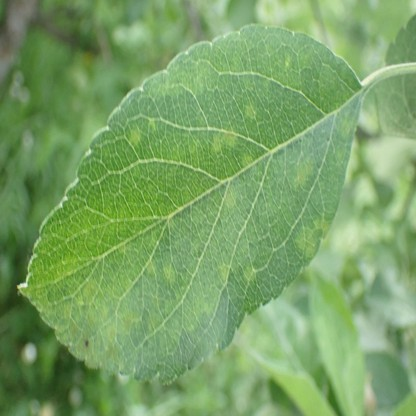scab: (161, 279, 216, 337), (294, 156, 313, 188), (294, 228, 314, 256), (212, 127, 236, 150), (105, 328, 119, 363), (336, 115, 354, 138), (77, 333, 93, 356), (121, 312, 136, 334), (312, 219, 330, 236), (225, 184, 236, 209), (163, 264, 175, 285), (146, 311, 159, 330), (84, 282, 97, 300), (245, 267, 255, 284), (244, 104, 256, 118), (147, 259, 156, 277), (67, 321, 77, 337), (336, 148, 345, 165), (129, 128, 138, 145), (219, 262, 228, 279), (242, 157, 253, 168), (87, 313, 95, 328), (118, 243, 124, 254)
